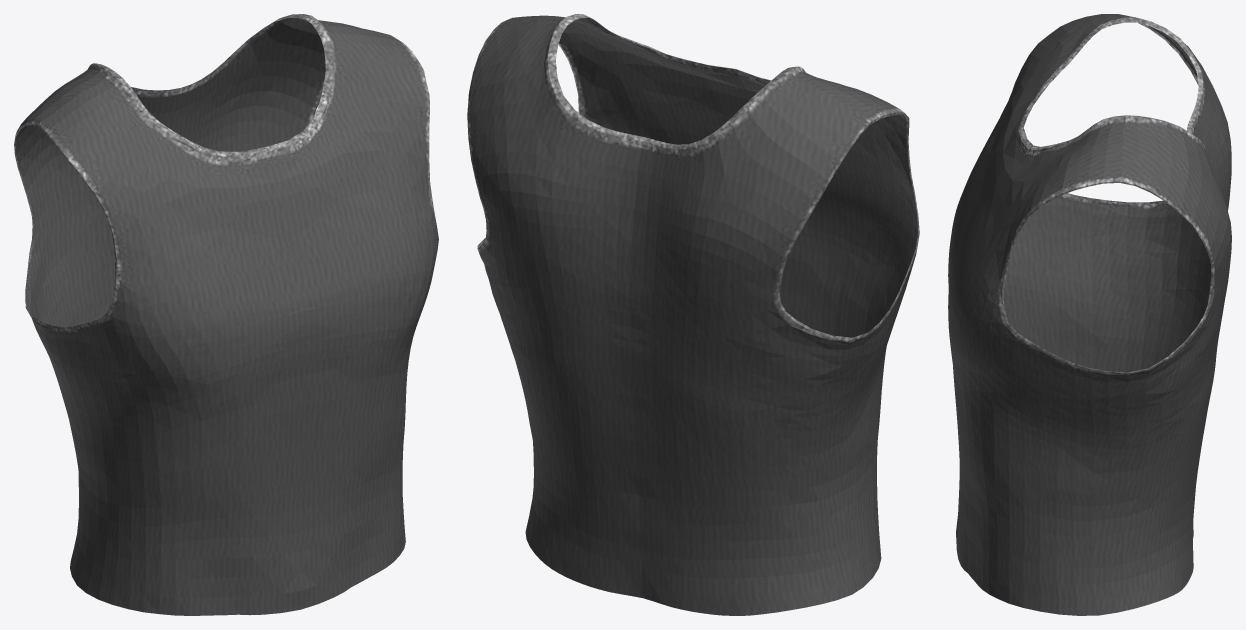
Rendered from mhw_elvs_male_tankshirt1.glb.
3 views of the same model, side by side, from view 1: azimuth 30°, elevation 25°; view 2: azimuth 150°, elevation 25°; view 3: azimuth 270°, elevation 25° (orthographic). The views are drawn at different scales.
Parts seen in each view (by area): view 1: mhw_elvs_male_tankshirt1; view 2: mhw_elvs_male_tankshirt1; view 3: mhw_elvs_male_tankshirt1.
Part boxes in pixels (x1=…): mhw_elvs_male_tankshirt1: x1=14, y1=14, x2=438, y2=615; mhw_elvs_male_tankshirt1: x1=467, y1=14, x2=919, y2=615; mhw_elvs_male_tankshirt1: x1=948, y1=14, x2=1231, y2=615.
Bounding box in the file's own units: 0.3659 × 0.4833 × 0.2567.
1 material, 1 textured.
